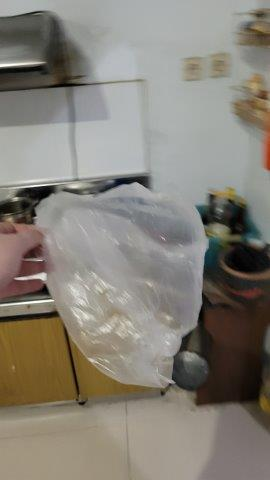plastik: (33, 178, 202, 384)
